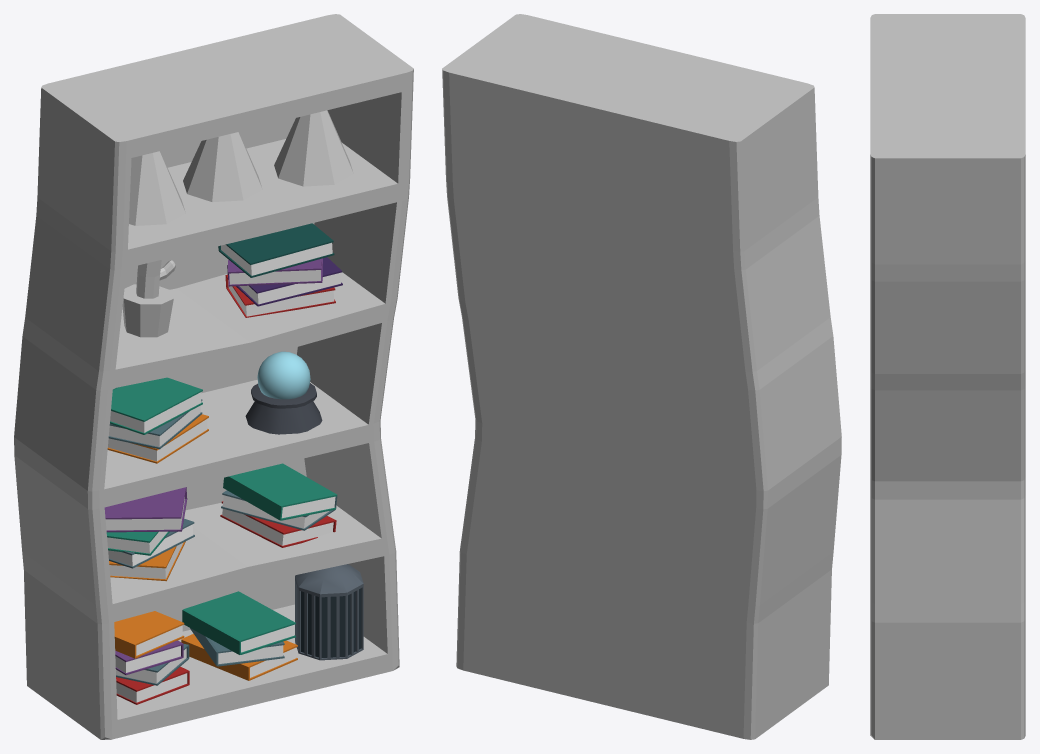
File: Shelf.fbx
3 renders of one model, left to right at view 1: azimuth 30°, elevation 25°; view 2: azimuth 150°, elevation 25°; view 3: azimuth 270°, elevation 25°, orthographic.
Parts seen in each view (by area): view 1: Shelf, Cage, Book.017, Con3, Book.021, Cone2, Book.003, Book.006, Cone1, Book.011, Stand, Book.018 (+18 smaller); view 2: Shelf; view 3: Shelf.
Part boxes in pixels (box(x1,y1,x2,y2)): Shelf: box(14, 14, 413, 739); Cage: box(295, 564, 363, 660); Book.017: box(182, 591, 295, 654); Con3: box(274, 110, 353, 186); Book.021: box(223, 463, 337, 520); Cone2: box(183, 132, 262, 202); Book.003: box(218, 223, 334, 277); Book.006: box(110, 377, 202, 434); Cone1: box(129, 151, 185, 225); Book.011: box(104, 487, 187, 532); Stand: box(245, 383, 322, 434); Book.018: box(114, 611, 184, 658); Shelf: box(442, 14, 841, 739); Shelf: box(870, 14, 1025, 739).
Size of the model in its own units: 275 by 480 by 115.
